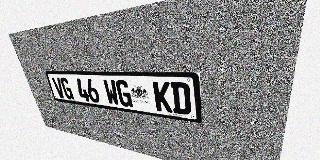4: (74, 78, 90, 102)
6: (84, 78, 101, 103)
D: (170, 82, 191, 115)
G: (115, 80, 133, 107), (59, 77, 74, 100)
K: (152, 81, 173, 113)
V: (51, 77, 66, 99)
W: (102, 79, 120, 106)
